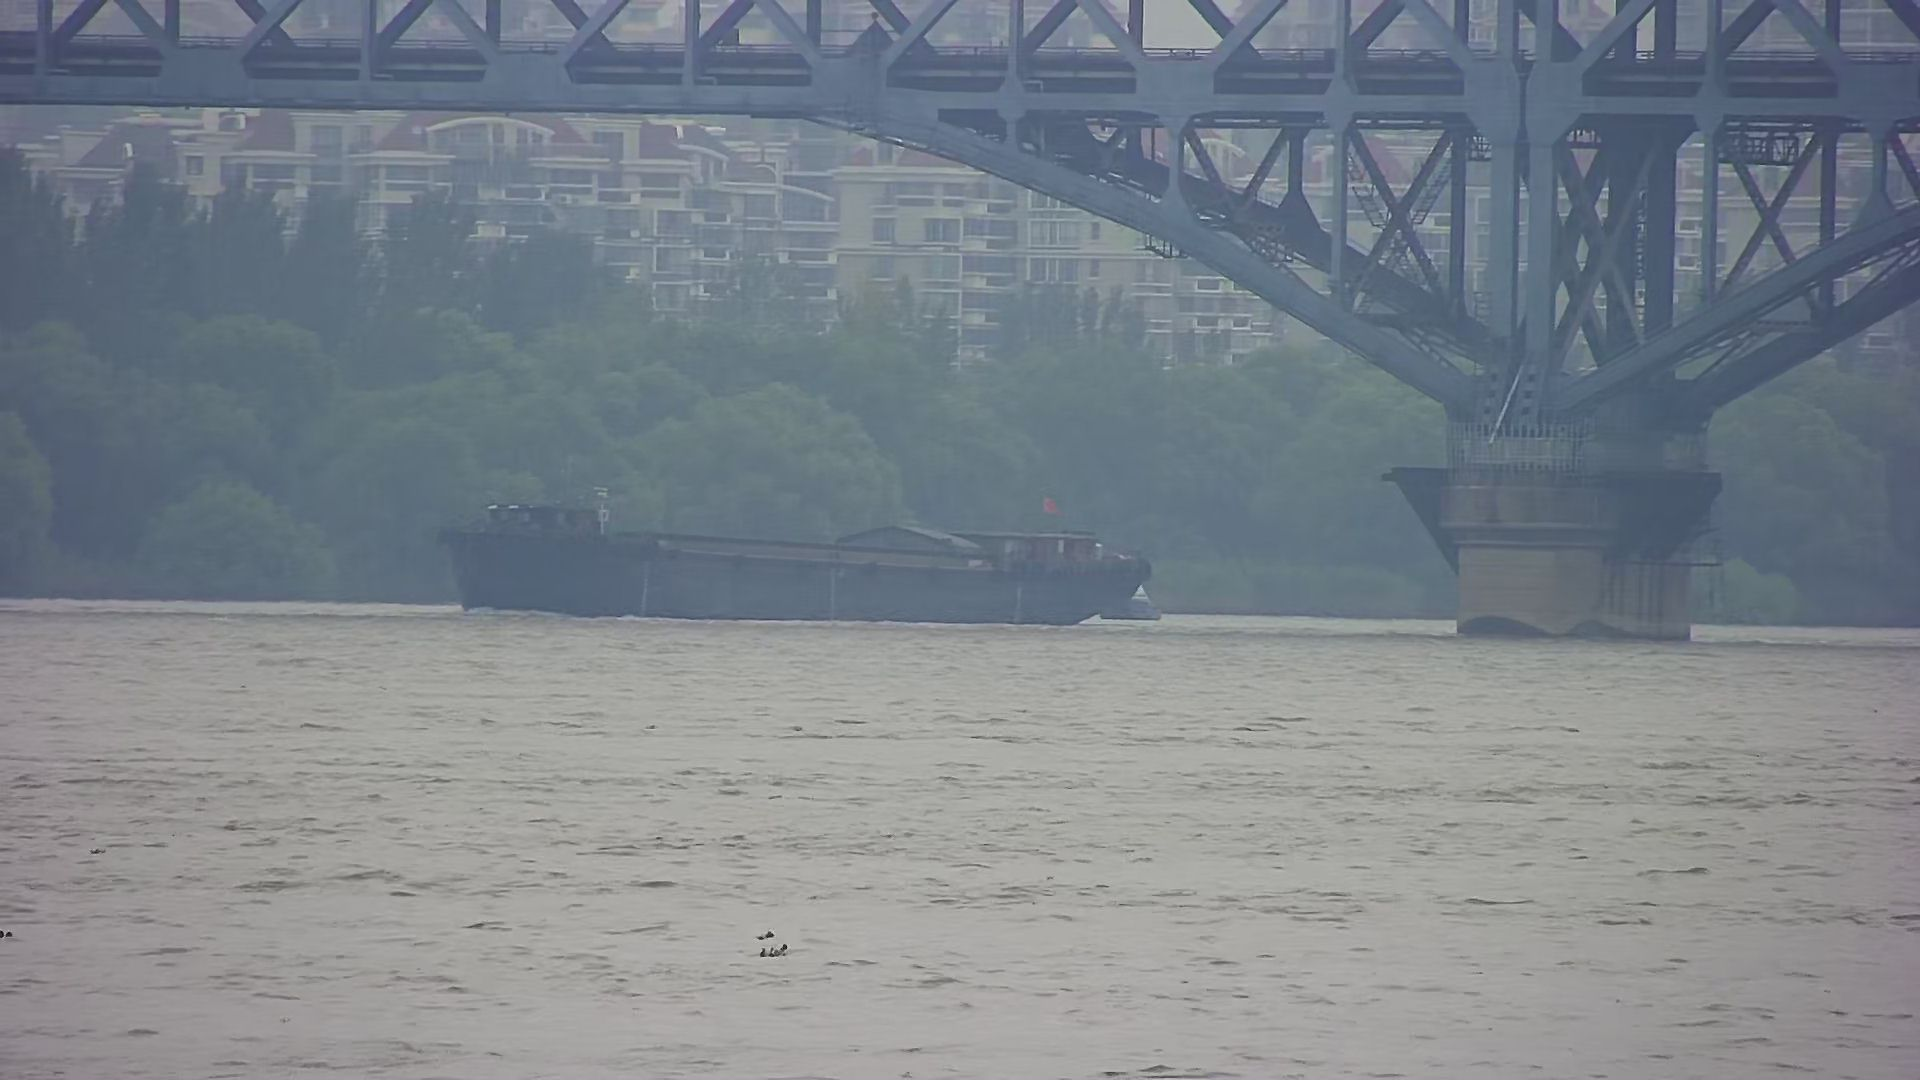bridge: (1, 1, 1912, 653)
ship: (436, 465, 1160, 634)
